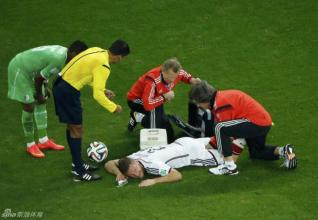fall: (96, 119, 217, 192)
